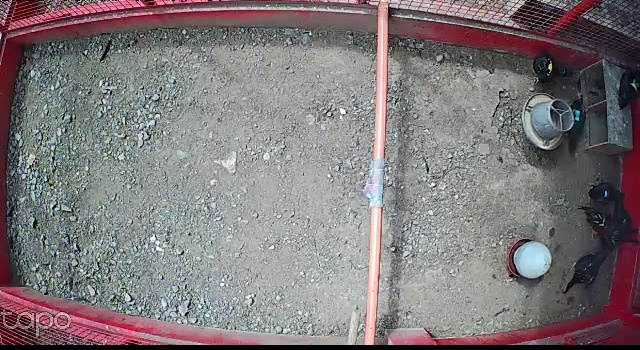Chicken: (562, 242, 620, 292), (564, 93, 591, 154), (529, 51, 569, 87), (585, 180, 630, 208), (546, 59, 553, 76)
Rooster: (577, 203, 640, 252)
Saddle_Color_Blue: (602, 191, 608, 197)
